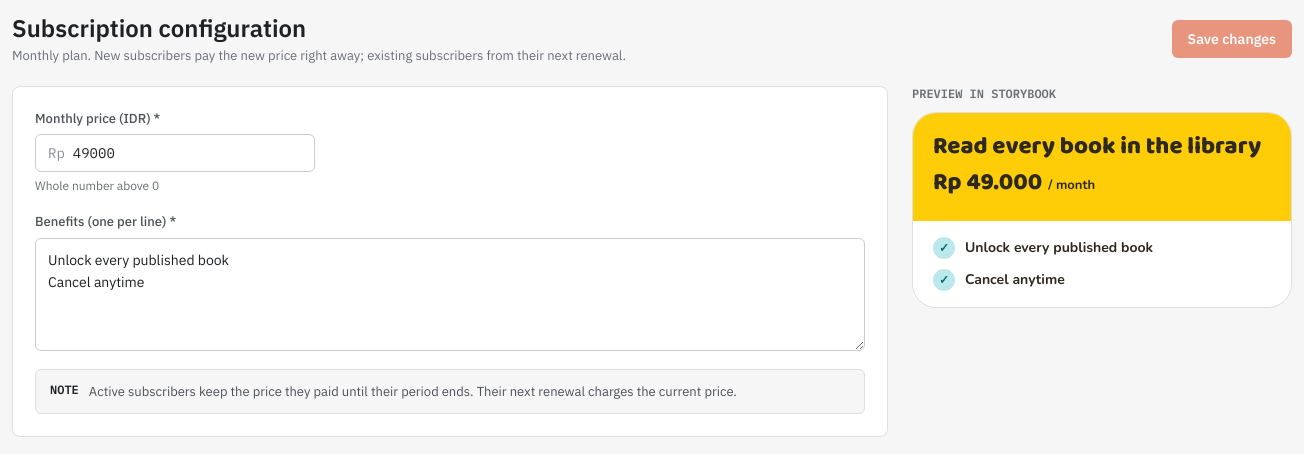
PlanForm › blocks a price of 0 (E-CR2)
Replace the text in the field labelled "Monthly price (IDR) *" with "0" at [187, 153], box top-left (73, 135), bottom-right (302, 171)
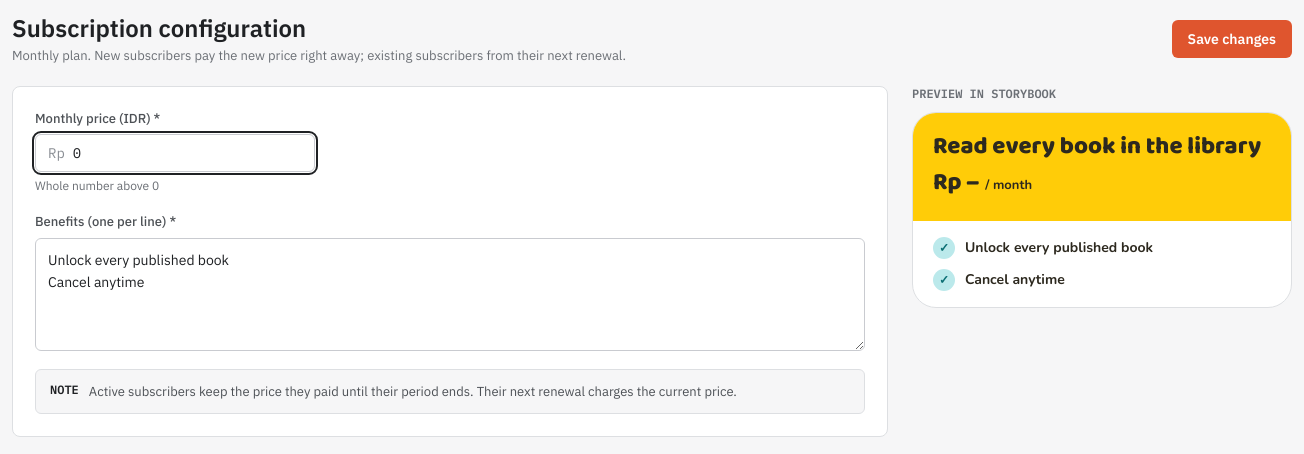
Click the button "Save changes" at [1232, 39], box top-left (1172, 20), bottom-right (1292, 58)
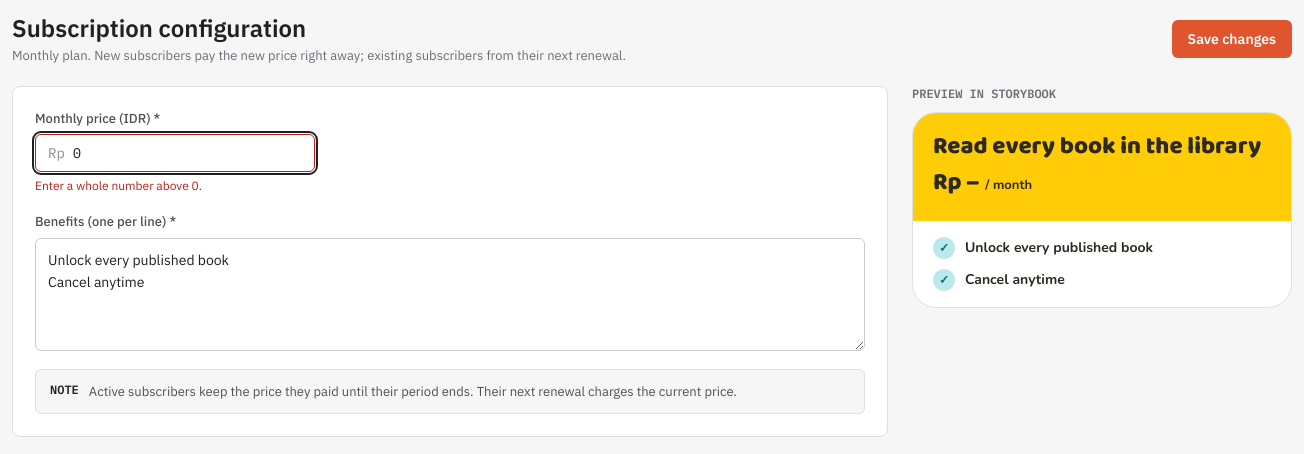
Check: the text "Enter a whole number above 0." is shown, box top-left (35, 178), bottom-right (202, 193)
